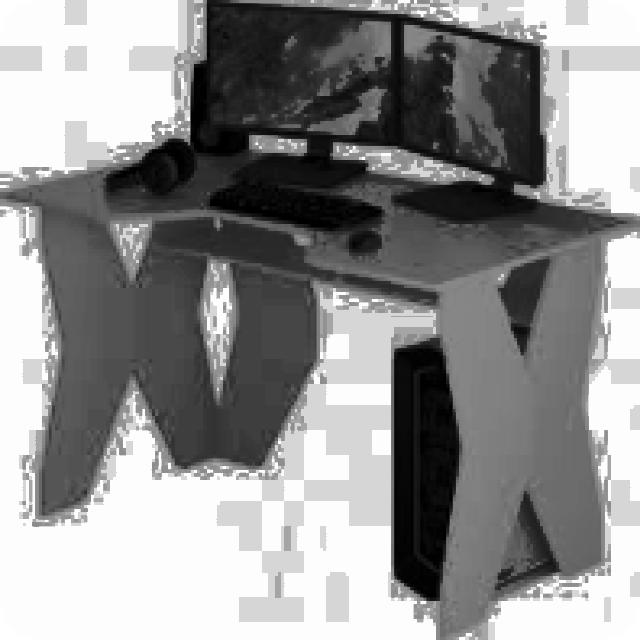table: (0, 132, 637, 636)
